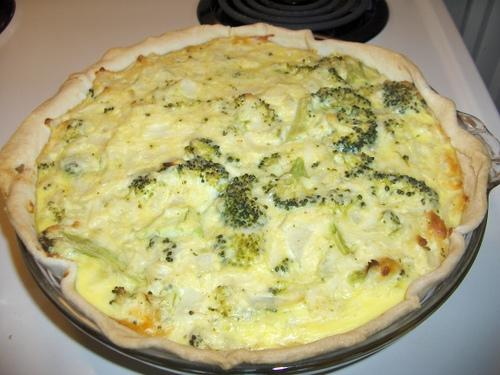broccoli: (218, 174, 268, 230), (59, 231, 127, 272), (177, 138, 229, 187), (332, 120, 378, 154), (311, 86, 371, 111), (227, 232, 265, 270), (382, 80, 419, 114), (208, 286, 234, 318), (126, 174, 156, 200), (399, 175, 432, 193), (280, 198, 299, 212), (275, 258, 288, 272), (356, 165, 374, 175), (300, 64, 320, 70), (299, 198, 309, 207), (406, 191, 416, 196)
